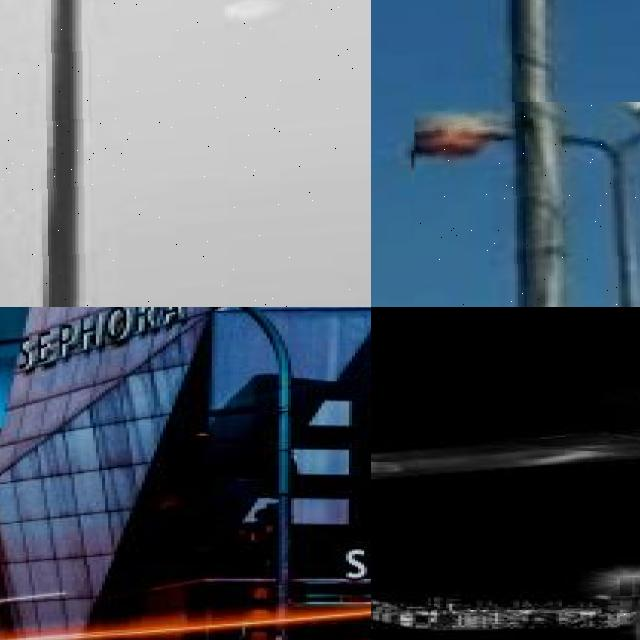street light: (0, 0, 371, 307), (414, 102, 640, 307), (622, 577, 640, 640)
